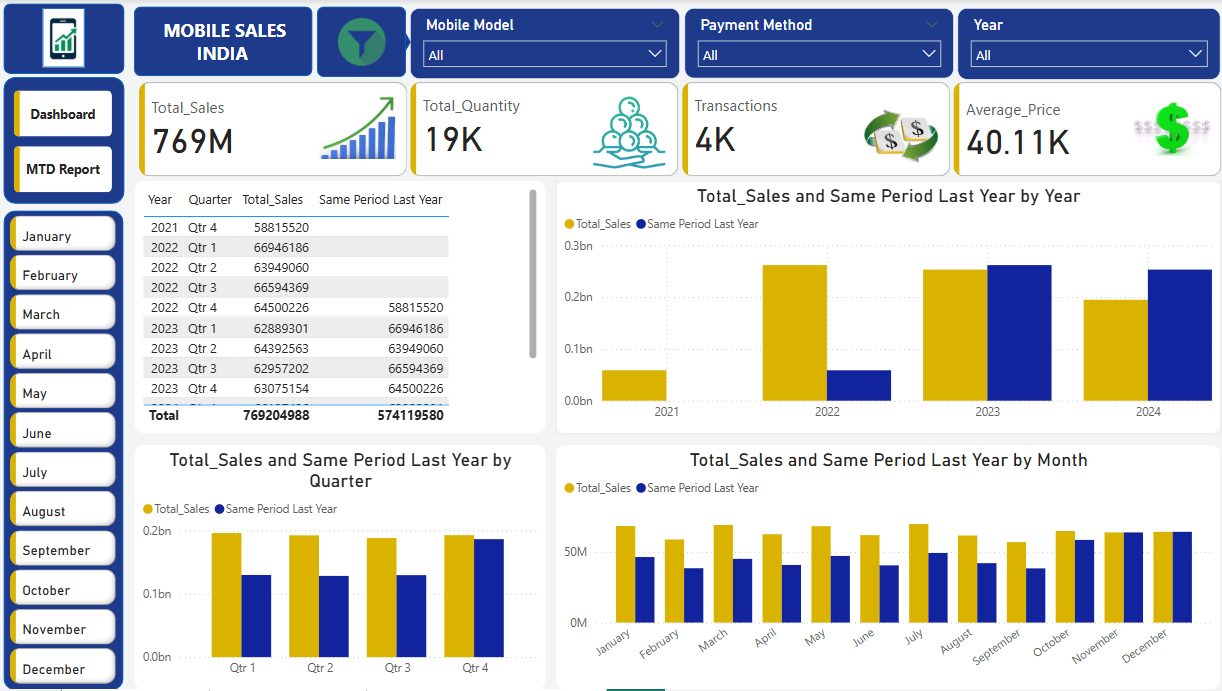

The page's visual inventory and layout, read from the dashboard file:
{"tool":"powerbi","page":{"name":"Same Period Last Year","canvas":[1280,720],"ordinal":2},"visuals":[{"type":"shape","box":[4,4,126,73.3],"z":0},{"type":"shape","box":[44.7,8.7,44,62],"z":1000},{"type":"image","box":[15.3,0,102.7,82],"z":2000},{"type":"shape","box":[4,82,126,132],"z":3000},{"type":"shape","box":[5,220,125,500],"z":4000},{"type":"advancedSlicerVisual","fields":{"Values":["Custom_Calender.Date.Variation.Date Hierarchy.Month"]},"box":[6.3,220.4,120.4,500.2],"z":5000},{"type":"cardVisual","fields":{"Data":["Mobile_Sales.Total_Sales","Mobile_Sales.Total_Qty","Mobile_Sales.Transactions","Mobile_Sales.Avg_Price"]},"box":[140,82,1140,108],"z":6000},{"type":"slicer","title":"hello","fields":{"Values":["Mobile_Sales.Mobile Model"]},"box":[428.9,8.9,281.1,73.7],"z":7000},{"type":"slicer","title":"hello","fields":{"Values":["Custom_Calender.Date.Variation.Date Hierarchy.Year"]},"box":[999.3,8.7,274,74.7],"z":8000},{"type":"slicer","title":"hello","fields":{"Values":["Mobile_Sales.Payment Method"]},"box":[714,8.7,280.7,73.3],"z":9000},{"type":"shape","box":[412.4,30,16.5,30],"z":10000},{"type":"shape","box":[331.4,8.6,92.9,73.6],"z":11000},{"type":"image","box":[340.7,5,74.3,80],"z":12000},{"type":"shape","box":[140.7,8,186,72.7],"z":13000},{"type":"textbox","box":[151,14,167,61],"z":14000},{"type":"tableEx","fields":{"Values":["Custom_Calender.Date.Variation.Date Hierarchy.Year","Custom_Calender.Date.Variation.Date Hierarchy.Quarter","Mobile_Sales.Total_Sales","Mobile_Sales.Same Period Last Year"]},"box":[140.6,189.6,429.7,263.8],"z":15000},{"type":"clusteredColumnChart","fields":{"Category":["Custom_Calender.Date.Variation.Date Hierarchy.Year","Custom_Calender.Date.Variation.Date Hierarchy.Quarter"],"Y":["Mobile_Sales.Total_Sales","Mobile_Sales.Same Period Last Year"]},"box":[140.6,464.4,429.7,255.9],"z":16000},{"type":"clusteredColumnChart","fields":{"Category":["Custom_Calender.Date.Variation.Date Hierarchy.Year","Custom_Calender.Date.Variation.Date Hierarchy.Quarter","Custom_Calender.Date.Variation.Date Hierarchy.Month","Custom_Calender.Date.Variation.Date Hierarchy.Day"],"Y":["Mobile_Sales.Total_Sales","Mobile_Sales.Same Period Last Year"]},"box":[579.7,464.4,693.4,255.9],"z":17000},{"type":"clusteredColumnChart","fields":{"Category":["Custom_Calender.Date.Variation.Date Hierarchy.Year","Custom_Calender.Date.Variation.Date Hierarchy.Quarter"],"Y":["Mobile_Sales.Total_Sales","Mobile_Sales.Same Period Last Year"]},"box":[579.7,189.6,693.4,263.8],"z":18000},{"type":"pageNavigator","box":[15.8,94.8,102.7,107.4],"z":18001}]}

Visuals, with their boxes in screenshot pixels (x1, y1, x2, y2), scaled from the page's 1280x720 canvas onto the 1222x691 screenshot:
shape: bbox(4, 4, 124, 74)
shape: bbox(43, 8, 85, 68)
image: bbox(15, 0, 113, 79)
shape: bbox(4, 79, 124, 205)
shape: bbox(5, 211, 124, 690)
advancedSlicerVisual - Custom_Calender.Date.Variation.Date Hierarchy.Month: bbox(6, 212, 121, 690)
cardVisual - Mobile_Sales.Total_Sales x Mobile_Sales.Total_Qty: bbox(134, 79, 1221, 182)
"hello" slicer: bbox(409, 9, 678, 79)
"hello" slicer: bbox(954, 8, 1216, 80)
"hello" slicer: bbox(682, 8, 950, 79)
shape: bbox(394, 29, 409, 58)
shape: bbox(316, 8, 405, 79)
image: bbox(325, 5, 396, 82)
shape: bbox(134, 8, 312, 77)
textbox: bbox(144, 13, 304, 72)
tableEx - Custom_Calender.Date.Variation.Date Hierarchy.Year x Custom_Calender.Date.Variation.Date Hierarchy.Quarter: bbox(134, 182, 544, 435)
clusteredColumnChart - Custom_Calender.Date.Variation.Date Hierarchy.Year x Custom_Calender.Date.Variation.Date Hierarchy.Quarter: bbox(134, 446, 544, 690)
clusteredColumnChart - Custom_Calender.Date.Variation.Date Hierarchy.Year x Custom_Calender.Date.Variation.Date Hierarchy.Quarter: bbox(553, 446, 1215, 690)
clusteredColumnChart - Custom_Calender.Date.Variation.Date Hierarchy.Year x Custom_Calender.Date.Variation.Date Hierarchy.Quarter: bbox(553, 182, 1215, 435)
pageNavigator: bbox(15, 91, 113, 194)
